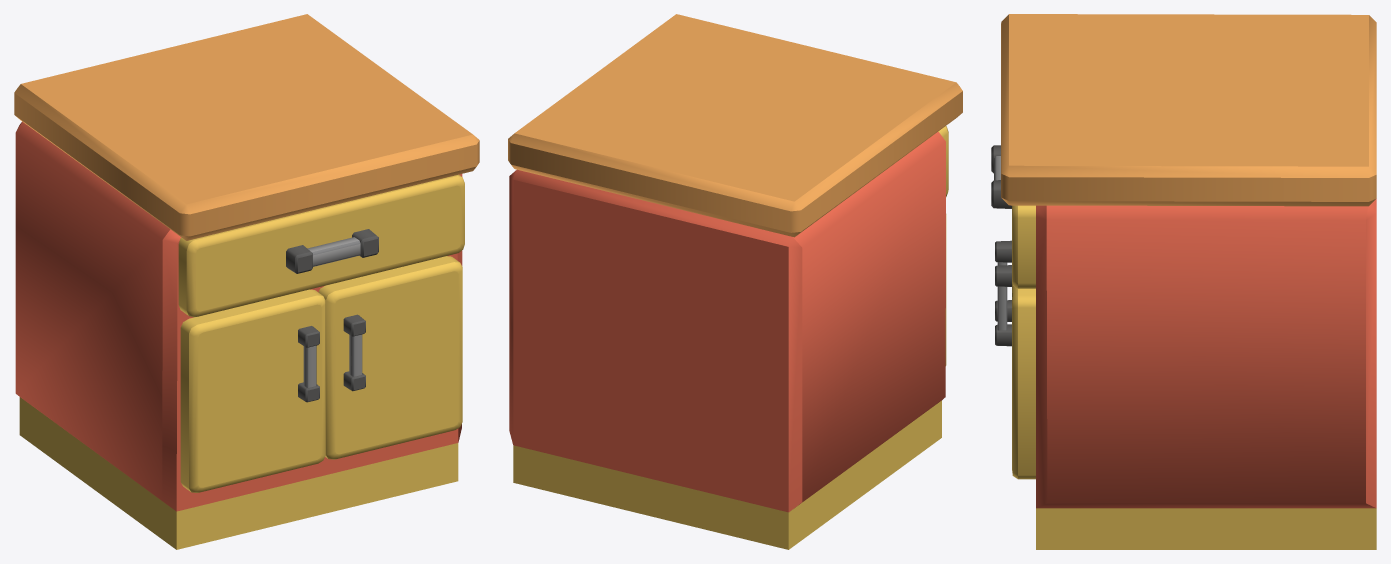
File: Furnit_G_2.glb
3 views of the same model, side by side, from view 1: azimuth 30°, elevation 25°; view 2: azimuth 150°, elevation 25°; view 3: azimuth 270°, elevation 25° (orthographic). The views are drawn at different scales.
Visible parts, largest first — view 1: Furnit_G_2, Furnit_G_2_GL, Furnit_G_2_GR; view 2: Furnit_G_2; view 3: Furnit_G_2, Furnit_G_2_GR, Furnit_G_2_GL.
Boxes of the visible parts, x1=… form: Furnit_G_2: x1=14, y1=14, x2=479, y2=549; Furnit_G_2_GL: x1=180, y1=289, x2=325, y2=492; Furnit_G_2_GR: x1=318, y1=256, x2=462, y2=459; Furnit_G_2: x1=508, y1=14, x2=962, y2=549; Furnit_G_2: x1=991, y1=14, x2=1376, y2=549; Furnit_G_2_GR: x1=995, y1=265, x2=1035, y2=479; Furnit_G_2_GL: x1=995, y1=240, x2=1011, y2=321.
Bounding box in the file's own units: 0.9 × 1.02 × 0.9237.
Materials: 1 (1 with a texture image).
